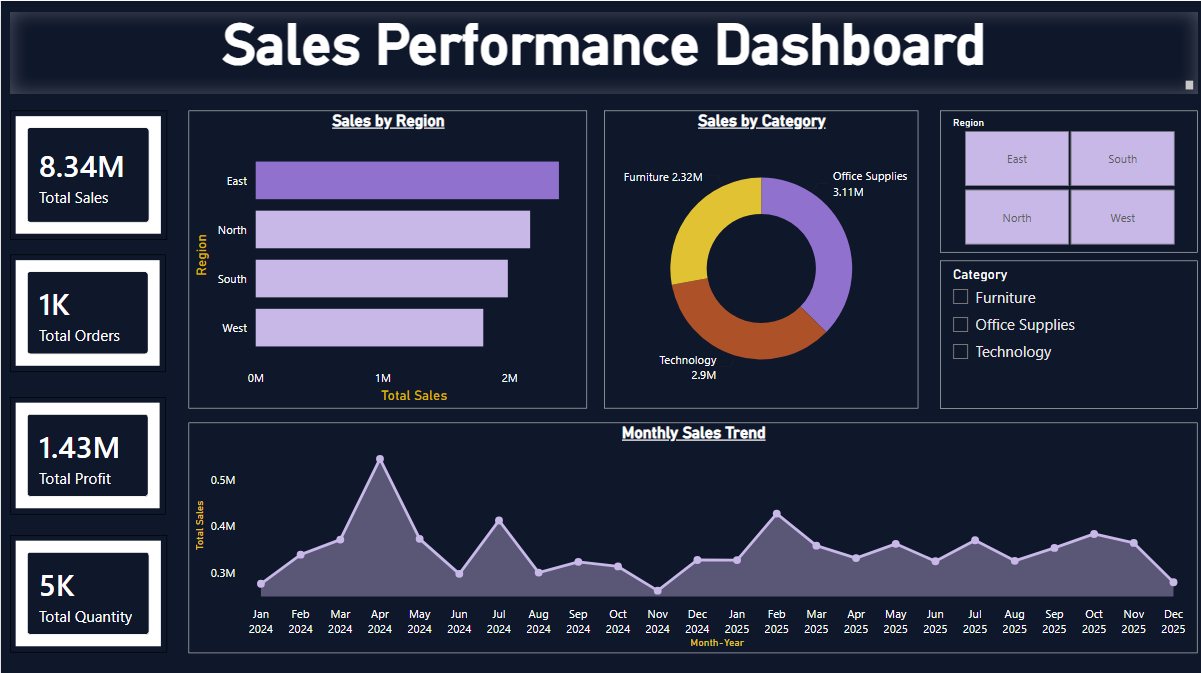

This screenshot's page, from the dashboard's own definition file:
{"tool":"powerbi","page":{"name":"Page 1","canvas":[1280,720],"ordinal":0},"visuals":[{"type":"cardVisual","fields":{"Data":["Sum(Superstore.Sales)"]},"box":[9.7,116.6,166.8,137.6],"z":0},{"type":"cardVisual","fields":{"Data":["Sum(Superstore.Profit)"]},"box":[9.7,419.4,165.2,124.7],"z":1000},{"type":"cardVisual","fields":{"Data":["Sum(Superstore.Quantity)"]},"box":[9.7,566.7,166.8,124.7],"z":2000},{"type":"cardVisual","fields":{"Data":["CountNonNull(Superstore.Order ID)"]},"box":[9.7,268.8,165.2,124.7],"z":3000},{"type":"lineChart","title":"Monthly Sales Trend","fields":{"Category":["Superstore.Month-Year"],"Y":["Sum(Superstore.Sales)"]},"box":[199.2,446.9,1070.3,244.5],"z":4000},{"type":"clusteredBarChart","title":"Sales by Region","fields":{"Y":["Sum(Superstore.Sales)"],"Category":["Superstore.Region"]},"box":[199.2,116.6,422.6,315.7],"z":5000},{"type":"donutChart","title":"Sales by Category","fields":{"Y":["Sum(Superstore.Sales)"],"Category":["Superstore.Category"]},"box":[639.6,116.6,333.6,315.7],"z":6000},{"type":"slicer","fields":{"Values":["Superstore.Region"]},"box":[995.8,116.6,273.6,150.6],"z":7000},{"type":"slicer","fields":{"Values":["Superstore.Category"]},"box":[995.8,275.3,273.6,157.1],"z":8000},{"type":"textbox","title":"Sales Performance Dashboard","box":[9.5,11.1,1259.8,87.5],"z":8001}]}

Visuals, with their boxes in screenshot pixels (x1, y1, x2, y2), scaled from the page's 1280x720 canvas onto the 1201x673 screenshot:
cardVisual - Sum(Superstore.Sales): 9/109/166/238
cardVisual - Sum(Superstore.Profit): 9/392/164/509
cardVisual - Sum(Superstore.Quantity): 9/530/166/646
cardVisual - CountNonNull(Superstore.Order ID): 9/251/164/368
"Monthly Sales Trend" lineChart: 187/418/1191/646
"Sales by Region" clusteredBarChart: 187/109/583/404
"Sales by Category" donutChart: 600/109/913/404
slicer - Superstore.Region: 934/109/1191/250
slicer - Superstore.Category: 934/257/1191/404
"Sales Performance Dashboard" textbox: 9/10/1191/92
